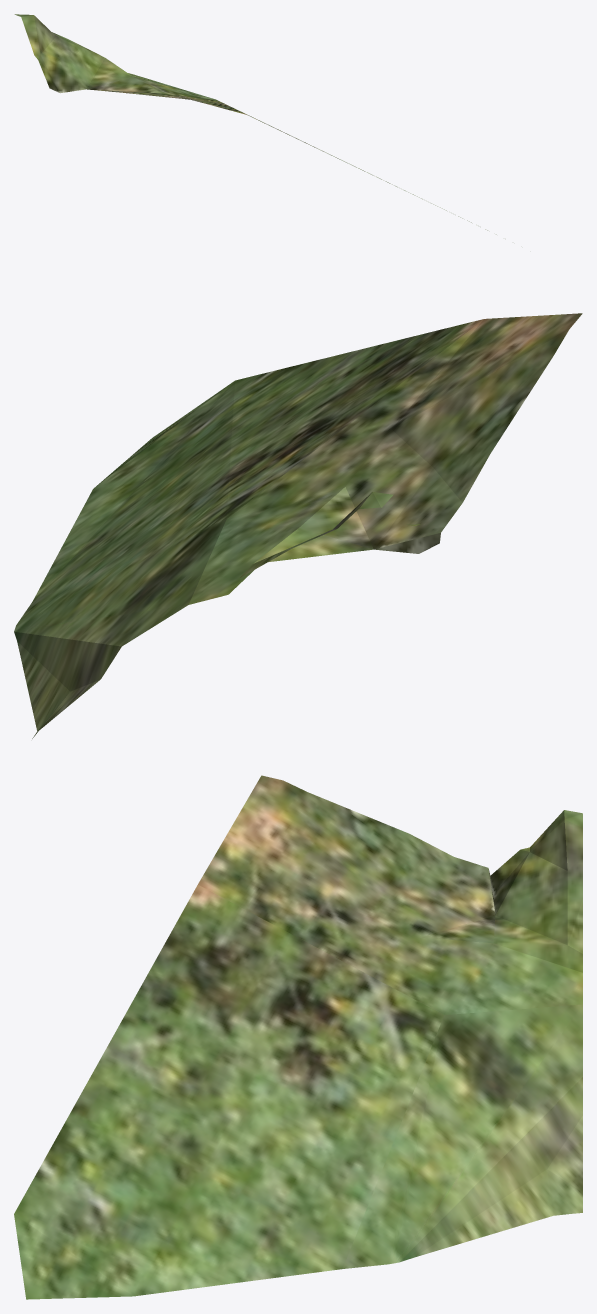
The picture shows the model from 3 angles, top to bottom: view 1: azimuth 30°, elevation 25°; view 2: azimuth 150°, elevation 25°; view 3: azimuth 270°, elevation 25°; orthographic projection. The views are drawn at different scales.
Bounding box in the file's own units: 2.23 × 1.38 × 2.38.
1 material, 1 textured.
